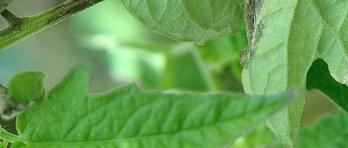Tomato leaf late blight: (23, 23, 338, 148), (104, 0, 348, 148)
